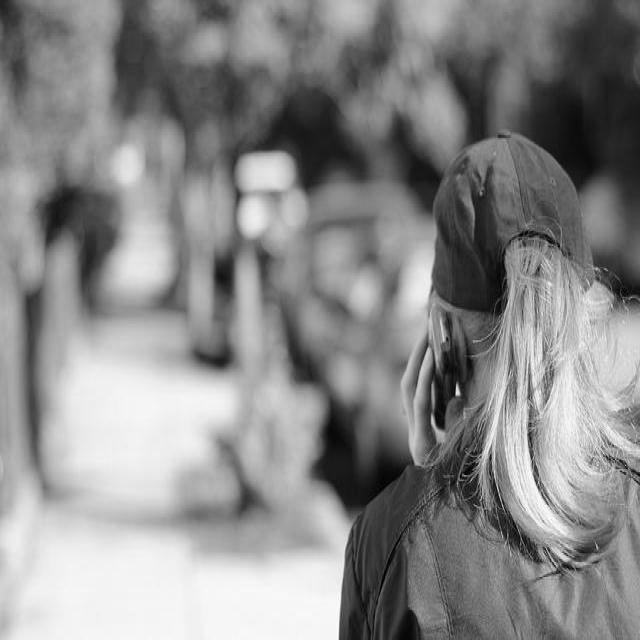vehicle: (290, 218, 440, 483), (264, 183, 427, 335), (233, 148, 311, 278), (580, 172, 640, 306)
